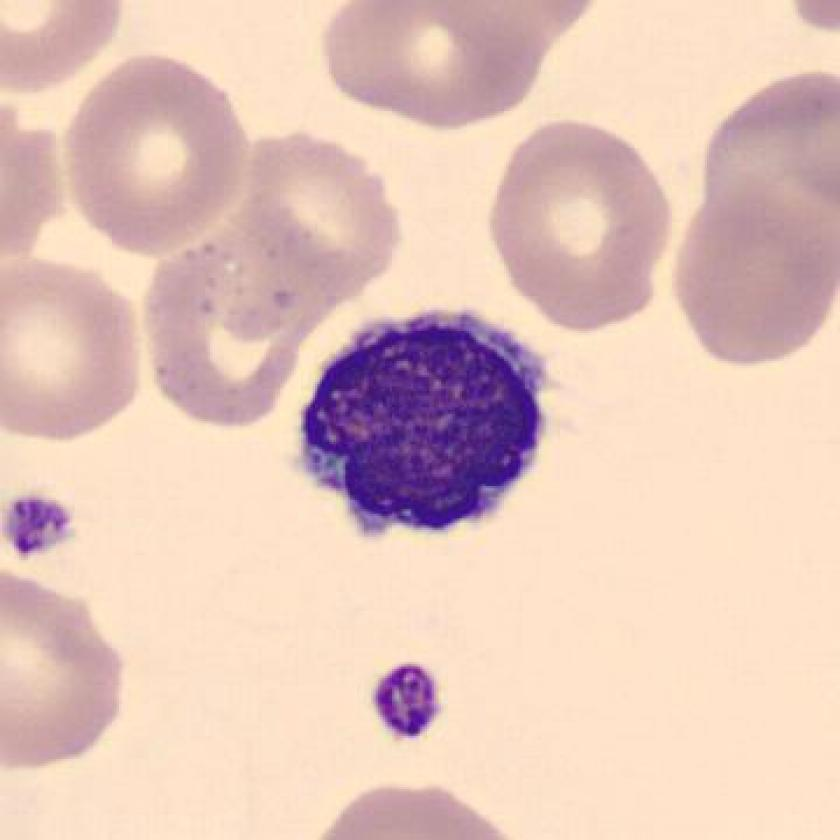lymphocyte: (279, 300, 563, 557)
